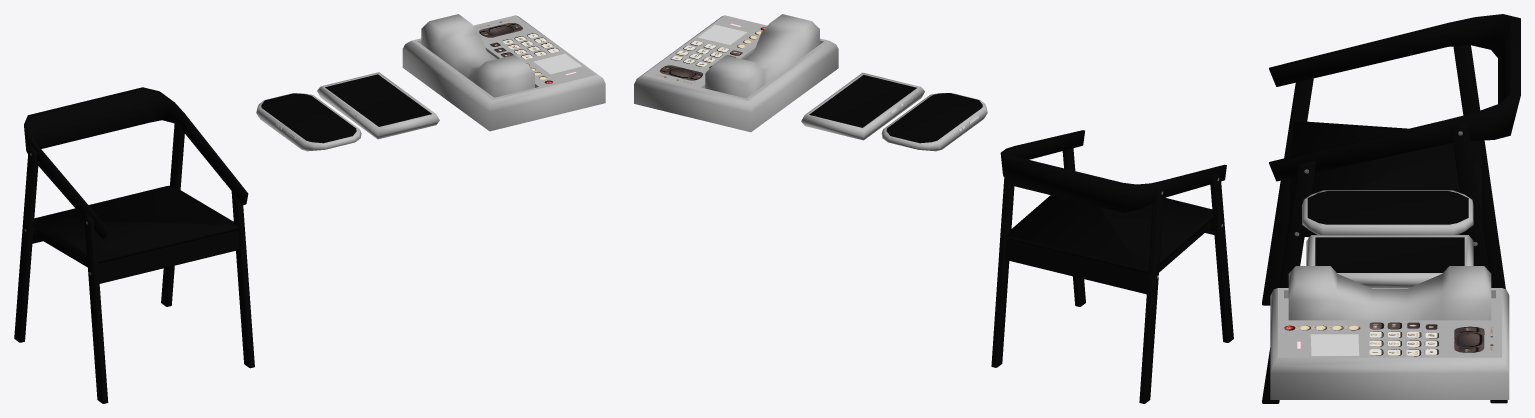
The model's file is Phones.fbx.
3 renders of one model, left to right at view 1: azimuth 30°, elevation 25°; view 2: azimuth 150°, elevation 25°; view 3: azimuth 270°, elevation 25°, orthographic. The views are drawn at different scales.
Parts seen in each view (by area): view 1: Chair Office CLean, PhoneClean, CellPhoneClean, CellPhoneClean2; view 2: Chair Office CLean, PhoneClean, CellPhoneClean, CellPhoneClean2; view 3: Chair Office CLean, PhoneClean, CellPhoneClean2, CellPhoneClean.
Boxes of the visible parts, left/top/right/bottom form: Chair Office CLean: left=14, top=87, right=254, bottom=403; PhoneClean: left=402, top=14, right=605, bottom=131; CellPhoneClean: left=317, top=72, right=439, bottom=139; CellPhoneClean2: left=256, top=93, right=361, bottom=151; Chair Office CLean: left=991, top=130, right=1233, bottom=403; PhoneClean: left=634, top=14, right=838, bottom=132; CellPhoneClean: left=801, top=72, right=924, bottom=140; CellPhoneClean2: left=881, top=93, right=987, bottom=151; Chair Office CLean: left=1262, top=14, right=1520, bottom=403; PhoneClean: left=1270, top=266, right=1509, bottom=399; CellPhoneClean2: left=1302, top=190, right=1473, bottom=234; CellPhoneClean: left=1306, top=235, right=1473, bottom=287.
Bounding box in the file's own units: 173 × 73.34 × 55.74.
